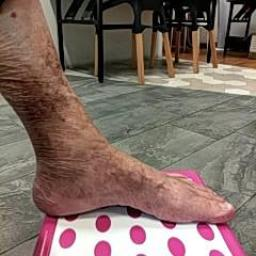Medial View -Left Foot-: (14, 110, 247, 244)
